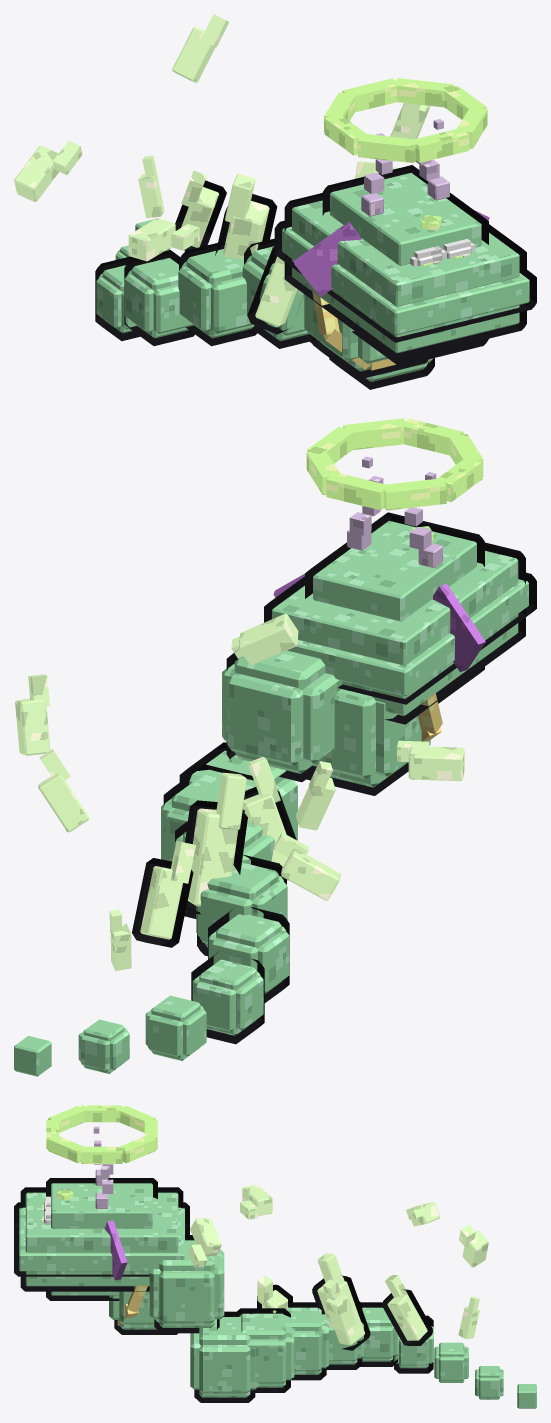
Rendered from boss_11.glb.
3 views of the same model, one above another, from view 1: azimuth 30°, elevation 25°; view 2: azimuth 150°, elevation 25°; view 3: azimuth 270°, elevation 25° (orthographic). The views are drawn at different scales.
Parts seen in each view (by area): view 1: model; view 2: model; view 3: model.
Part boxes in pixels (x1,y1,x2,y2): model: (14, 14, 536, 389); model: (14, 418, 536, 1076); model: (14, 1105, 536, 1408).
Size of the model in its own units: 1.27 by 1.25 by 2.21.
Materials: 9 (8 with a texture image).
